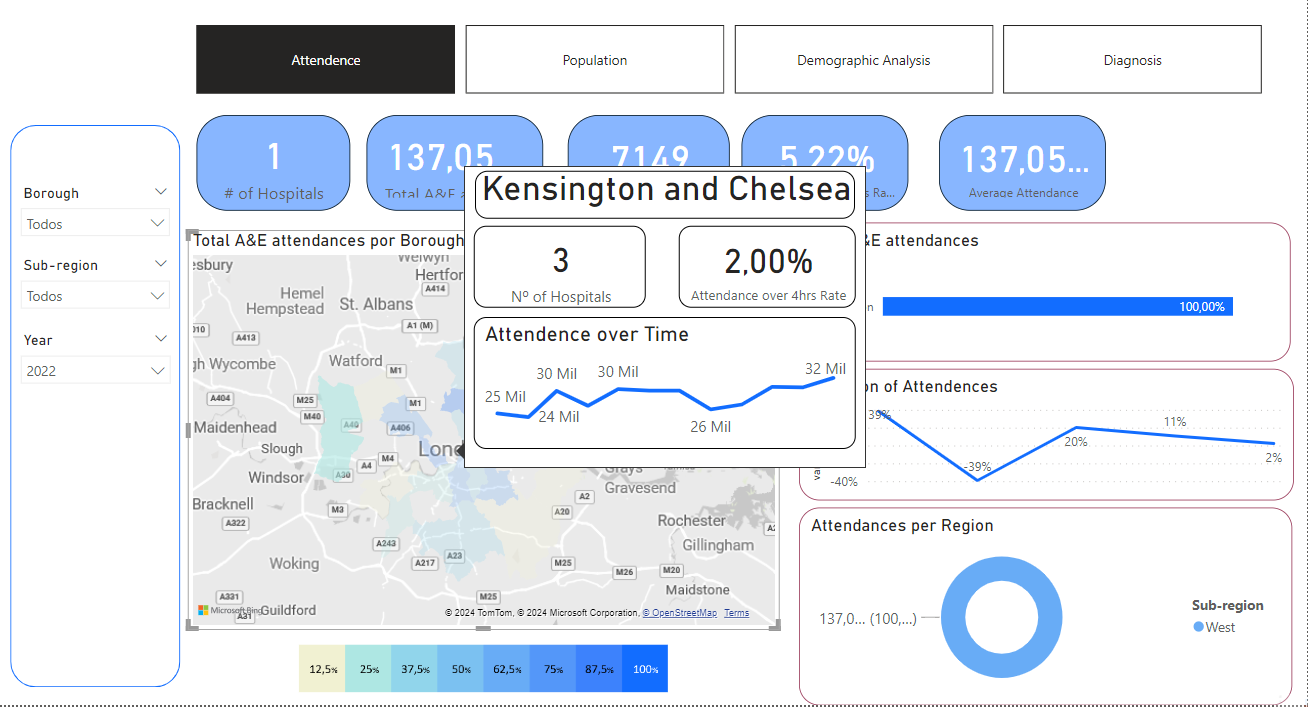

What the dashboard file says about the page in this screenshot:
{"tool":"powerbi","page":{"name":"Attendence","canvas":[1280,720],"ordinal":0},"visuals":[{"type":"shape","box":[11.3,151.2,166.3,549.9],"z":0,"group":"g1"},{"type":"card","fields":{"Values":["Measure.Total attendances over 4hrs"]},"box":[556.6,142.4,158.6,93.8],"z":0},{"type":"slicer","fields":{"Values":["d_date.Date.Variation.Date Hierarchy.Year"]},"box":[11.3,347.9,166.7,58.2],"z":500,"group":"g1"},{"type":"slicer","fields":{"Values":["d_area.Sub-region"]},"box":[11.3,275.1,166.3,59],"z":1000,"group":"g1"},{"type":"slicer","fields":{"Values":["d_area.Area name"]},"box":[11.3,203.3,166.3,64.8],"z":2000,"group":"g1"},{"type":"clusteredBarChart","title":"% of A&E attendances","fields":{"Category":["d_hospitals.Borough"],"Y":["Measure.Total A&E attendances"]},"box":[782.3,247.4,480.9,135.9],"z":2000},{"type":"group","id":"g1","title":"Grupo 1","box":[11.3,151.2,166.7,549.9],"z":3000},{"type":"filledMap","fields":{"Category":["d_hospitals.Borough Adjusted"]},"box":[184.4,254,579.2,391.6],"z":4000},{"type":"card","fields":{"Values":["Measure.Total A&E attendances"]},"box":[359.2,142.4,173.1,93.8],"z":5000},{"type":"pageNavigator","box":[192.5,53.4,1043.6,68],"z":6000},{"type":"card","fields":{"Values":["Count(f_attendences.Org Code)"]},"box":[192.5,142.4,150.5,93.8],"z":7000},{"type":"image","box":[288,645.6,370.5,74.4],"z":8000},{"type":"card","fields":{"Values":["Measure.Average Attendance"]},"box":[919,142.4,163.4,93.8],"z":9000},{"type":"donutChart","title":"Attendances per Region","fields":{"Category":["d_area.Sub-region"],"Y":["Divide(Measure.Total A&E attendances, ScopedEval(Measure.Total A&E attendances, []))"]},"box":[782.3,526.2,482.6,193.4],"z":10000},{"type":"lineChart","title":"Variation of Attendences","fields":{"Category":["d_date.Year"],"Y":["Measure.variation of emergency"]},"box":[782.3,390.3,484.4,128.9],"z":11000},{"type":"card","fields":{"Values":["Measure.Attendance over4hrs Rate"]},"box":[726.5,142.4,163.4,93.8],"z":12000}]}

Visuals, with their boxes on the page's 1280x720 design canvas (x1, y1, x2, y2). These are canvas units, not pixel positions in the 1308x707 screenshot, which may show the page scaled, cropped or inside an application window:
shape: locate(11, 151, 178, 701)
card - Measure.Total attendances over 4hrs: locate(557, 142, 715, 236)
slicer - d_date.Date.Variation.Date Hierarchy.Year: locate(11, 348, 178, 406)
slicer - d_area.Sub-region: locate(11, 275, 178, 334)
slicer - d_area.Area name: locate(11, 203, 178, 268)
"% of A&E attendances" clusteredBarChart: locate(782, 247, 1263, 383)
"Grupo 1" group: locate(11, 151, 178, 701)
filledMap - d_hospitals.Borough Adjusted: locate(184, 254, 764, 646)
card - Measure.Total A&E attendances: locate(359, 142, 532, 236)
pageNavigator: locate(192, 53, 1236, 121)
card - Count(f_attendences.Org Code): locate(192, 142, 343, 236)
image: locate(288, 646, 658, 720)
card - Measure.Average Attendance: locate(919, 142, 1082, 236)
"Attendances per Region" donutChart: locate(782, 526, 1265, 720)
"Variation of Attendences" lineChart: locate(782, 390, 1267, 519)
card - Measure.Attendance over4hrs Rate: locate(726, 142, 890, 236)
